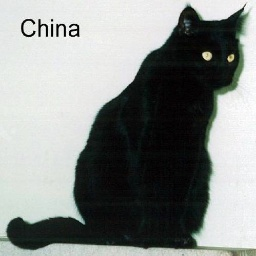cat: (10, 0, 244, 252)
